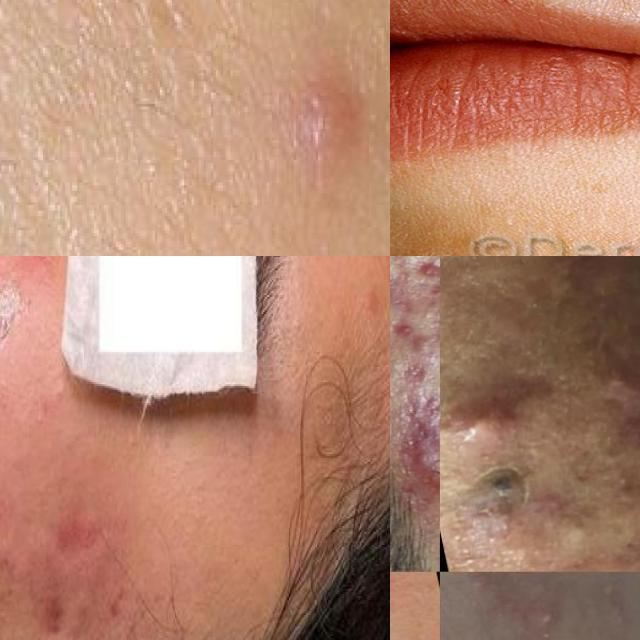acne_scars: (59, 505, 134, 564), (22, 590, 83, 640)
comedone: (580, 571, 640, 618), (442, 572, 506, 608), (525, 602, 568, 640), (515, 572, 556, 602), (558, 506, 591, 542), (616, 498, 640, 531)
cystic: (440, 385, 521, 453)
pustule: (430, 421, 440, 477)
sebo-crystan-conglo: (390, 363, 440, 511), (470, 453, 531, 527)
